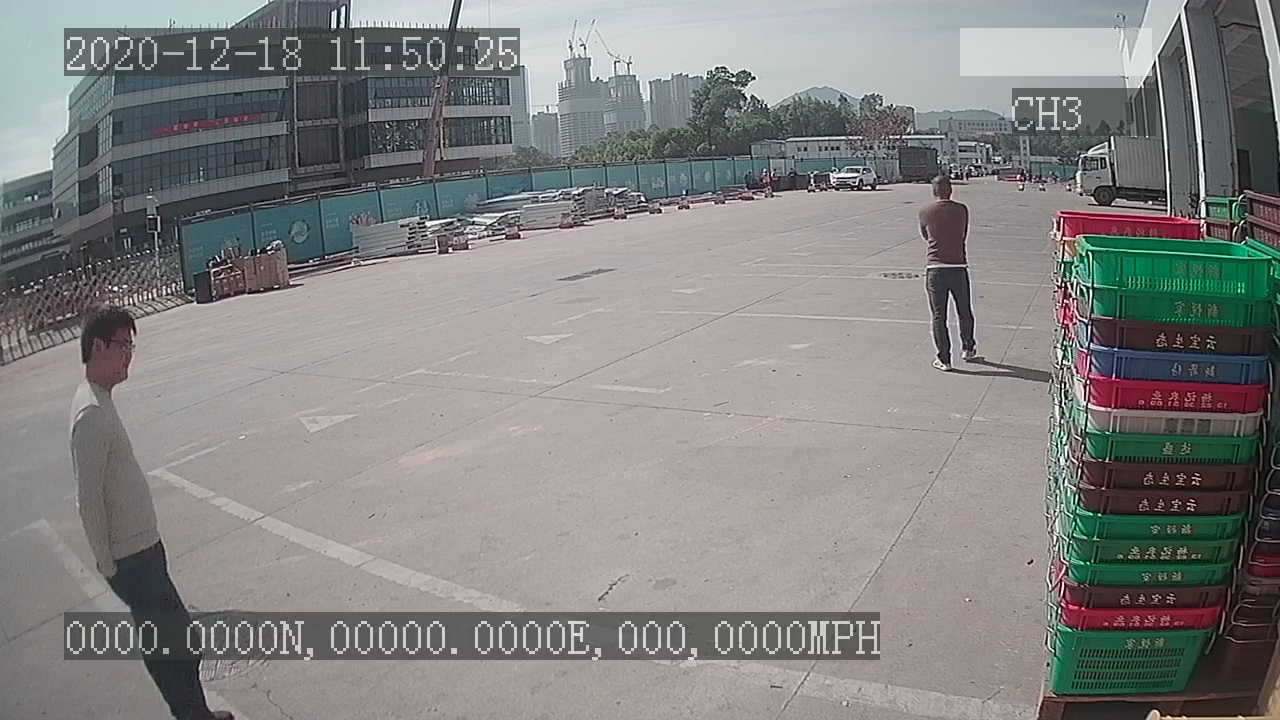person: (913, 172, 984, 379)
